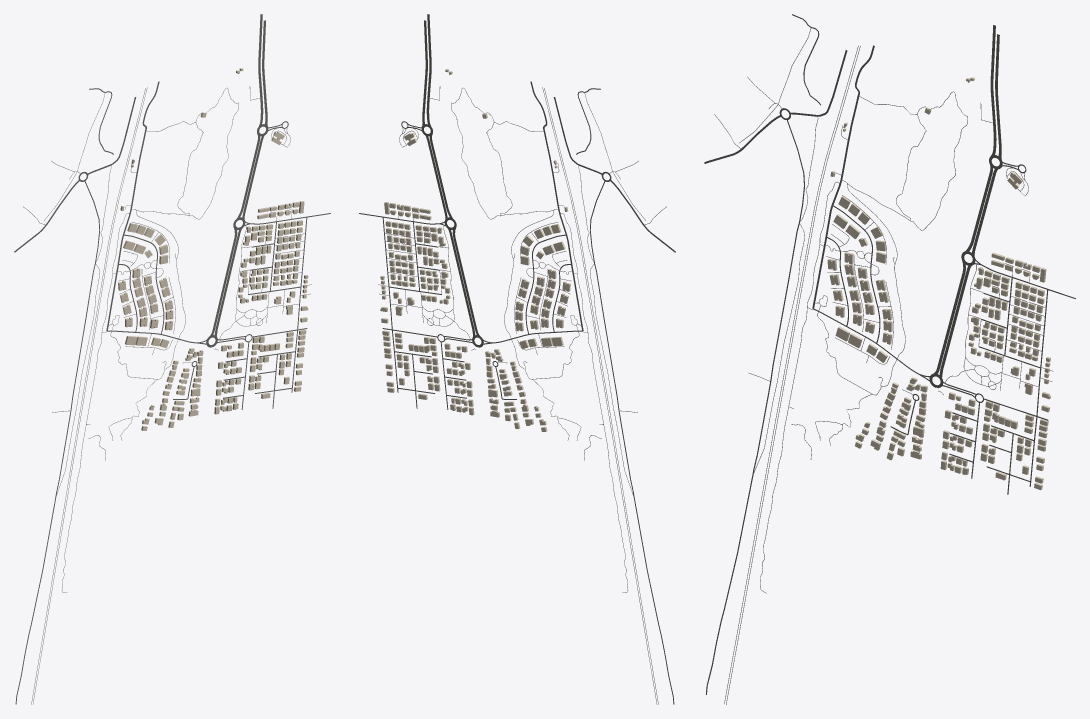
The model's file is historic-palestine-07_33_3494_3270.glb.
The picture shows the model from 3 angles, left to right: view 1: azimuth 30°, elevation 25°; view 2: azimuth 150°, elevation 25°; view 3: azimuth 330°, elevation 25°; orthographic projection. The views are drawn at different scales.
Parts seen in each view (by area): view 1: Road .006, Road מסילת החוף, Road מסילת החוף.001; view 2: Road .006, Road מסילת החוף, Road מסילת החוף.001; view 3: Road .006, Road מסילת החוף, Road מסילת החוף.001.
Boxes of the visible parts, <box> form: Road .006: <box>15,180,99,704</box>; Road מסילת החוף: <box>31,88,145,704</box>; Road מסילת החוף.001: <box>33,87,147,704</box>; Road .006: <box>590,180,674,704</box>; Road מסילת החוף: <box>544,88,658,704</box>; Road מסילת החוף.001: <box>542,87,656,704</box>; Road .006: <box>706,119,804,694</box>; Road מסילת החוף: <box>724,45,858,703</box>; Road מסילת החוף.001: <box>726,46,860,704</box>.
Size of the model in its own units: 1068 by 2046 by 8.7.
